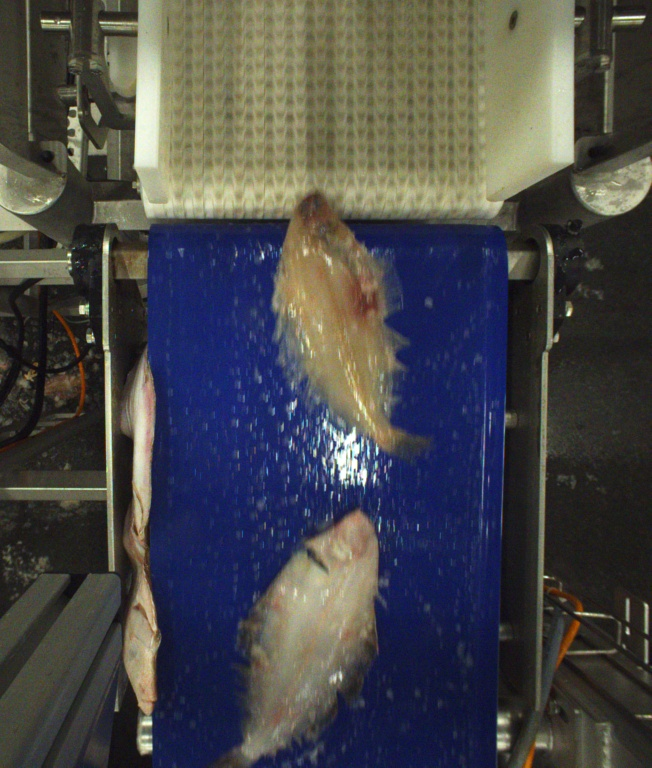WIT: (276, 186, 422, 470)
